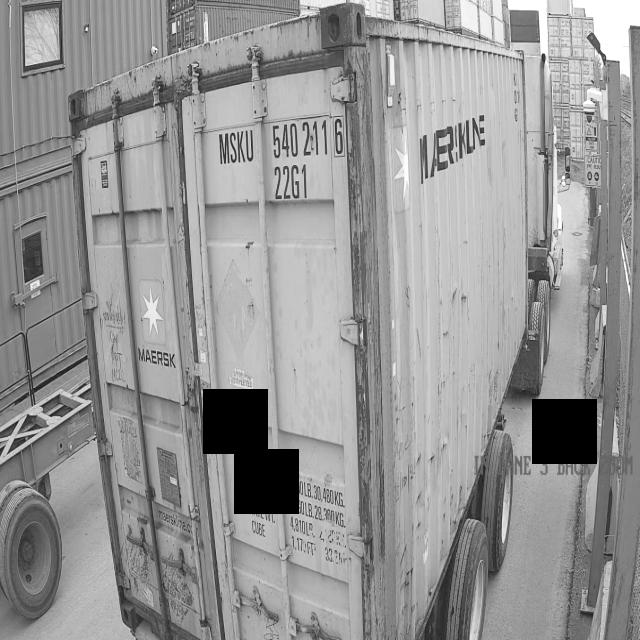container_company_logo: (414, 96, 495, 195), (132, 346, 180, 370)
container_number: (217, 110, 355, 222)
other_container_info: (246, 458, 360, 582)
truck_trailer: (0, 384, 93, 618)
truck_with_container: (68, 3, 562, 640)
